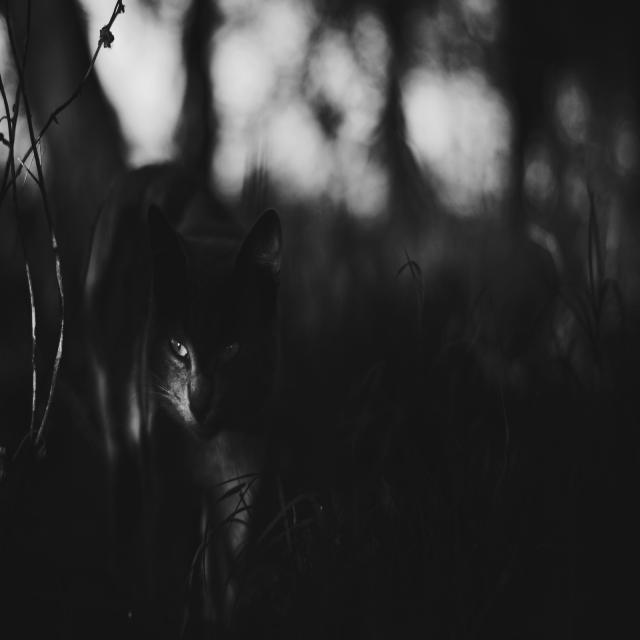Cat: (64, 172, 330, 539)
